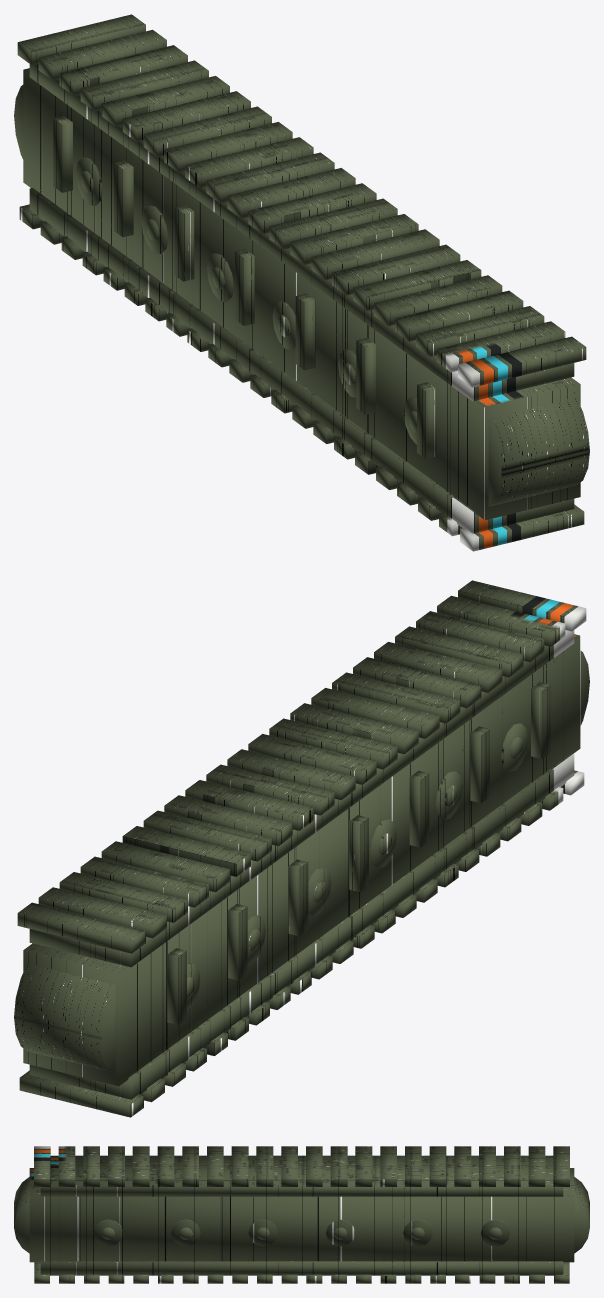
The model's file is medium_tank_track_right.obj.
3 views of the same model, one above another, from view 1: azimuth 30°, elevation 25°; view 2: azimuth 150°, elevation 25°; view 3: azimuth 270°, elevation 25° (orthographic). The views are drawn at different scales.
Visible parts, largest first — view 1: TrackRightMesh; view 2: TrackRightMesh; view 3: TrackRightMesh.
Boxes of the visible parts, <box> form: TrackRightMesh: <box>14,14,589,551</box>; TrackRightMesh: <box>14,580,589,1117</box>; TrackRightMesh: <box>14,1146,589,1283</box>.
Bounding box in the file's own units: 0.775 × 1.1 × 5.48.
